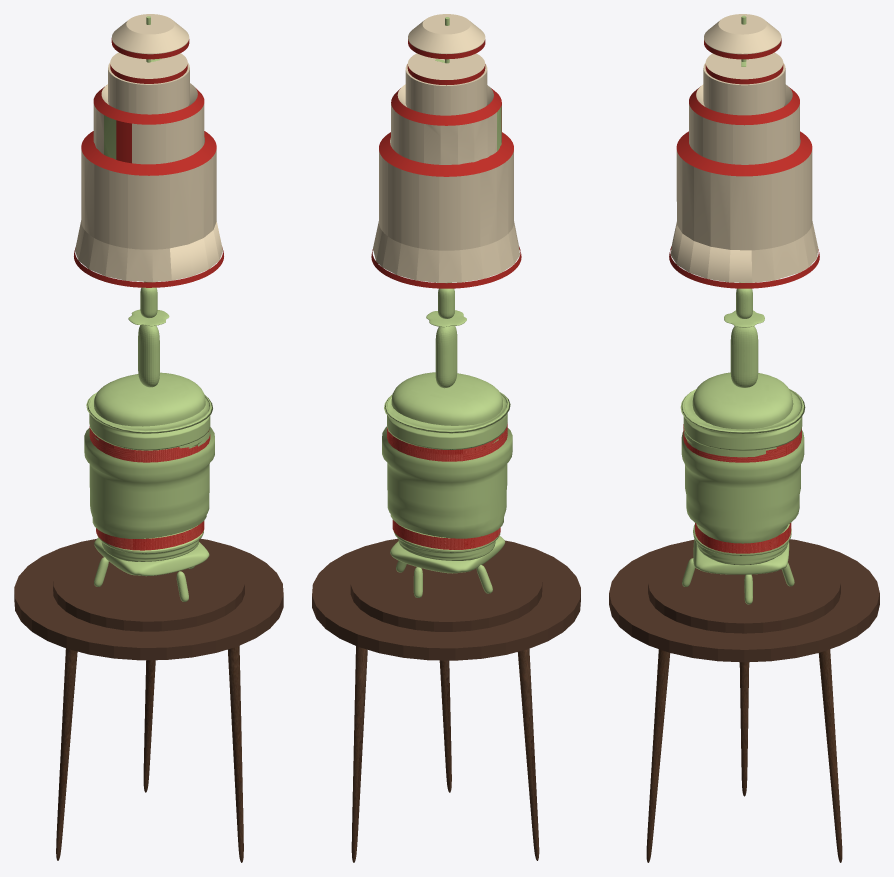
Rendered from lamph2.obj.
3 renders of one model, left to right at view 1: azimuth 30°, elevation 25°; view 2: azimuth 150°, elevation 25°; view 3: azimuth 270°, elevation 25°, orthographic.
Visible parts, largest first — view 1: mesa, base.002, base, base.006, lampara.081, lampara.003, pata1.001, pata1.002, lampara.001, lampara.040, base.001, lampara.037 (+26 smaller); view 2: mesa, base.002, base, base.006, lampara.081, lampara.003, pata1, lampara.001, pata1.002, lampara.008, lampara.006, lampara.030 (+22 smaller); view 3: mesa, base.002, base, base.006, lampara.012, lampara.081, lampara.003, lampara.001, pata1.001, pata1, lampara.011, soporte2.004 (+24 smaller).
Part boxes in pixels (bbox=[...]): mesa: bbox=[14, 538, 283, 660]; base.002: bbox=[84, 427, 214, 538]; base: bbox=[94, 372, 205, 426]; base.006: bbox=[86, 392, 212, 450]; lampara.081: bbox=[111, 14, 189, 54]; lampara.003: bbox=[81, 131, 216, 175]; pata1.001: bbox=[227, 646, 243, 862]; pata1.002: bbox=[56, 648, 77, 860]; lampara.001: bbox=[101, 52, 204, 142]; lampara.040: bbox=[128, 174, 152, 249]; base.001: bbox=[94, 537, 209, 576]; lampara.037: bbox=[109, 170, 127, 248]; mesa: bbox=[312, 538, 580, 660]; base.002: bbox=[382, 426, 512, 538]; base: bbox=[391, 372, 502, 425]; base.006: bbox=[384, 392, 510, 449]; lampara.081: bbox=[408, 14, 485, 54]; lampara.003: bbox=[379, 132, 513, 176]; pata1: bbox=[351, 646, 367, 862]; lampara.001: bbox=[390, 53, 493, 145]; pata1.002: bbox=[517, 649, 539, 860]; lampara.008: bbox=[439, 176, 460, 250]; lampara.006: bbox=[419, 174, 439, 250]; lampara.030: bbox=[460, 173, 480, 249]; mesa: bbox=[609, 539, 879, 662]; base.002: bbox=[681, 430, 804, 543]; base: bbox=[692, 372, 793, 429]; base.006: bbox=[680, 389, 805, 450]; lampara.012: bbox=[730, 174, 771, 250]; lampara.081: bbox=[704, 14, 781, 54]; lampara.003: bbox=[676, 131, 812, 176]; lampara.001: bbox=[696, 52, 800, 143]; pata1.001: bbox=[646, 649, 670, 862]; pata1: bbox=[818, 649, 842, 862]; lampara.011: bbox=[772, 167, 794, 247]; soporte2.004: bbox=[730, 326, 758, 387].
Size of the model in its own units: 4.18 by 14.04 by 4.18.
